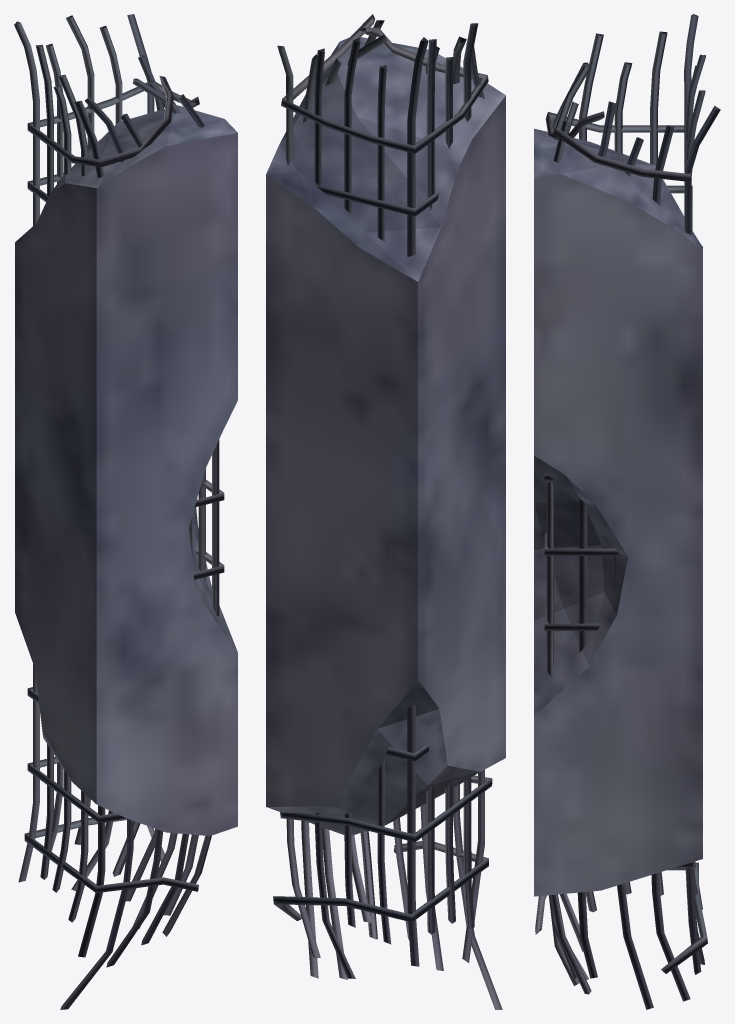
Rendered from broken-pillar.gltf.
3 views of the same model, side by side, from view 1: azimuth 30°, elevation 25°; view 2: azimuth 150°, elevation 25°; view 3: azimuth 270°, elevation 25° (orthographic). The views are drawn at different scales.
Visible parts, largest first — view 1: broken_concrete_pillar_003.001; view 2: broken_concrete_pillar_003.001; view 3: broken_concrete_pillar_003.001.
Part boxes in pixels (x1=…): broken_concrete_pillar_003.001: x1=14, y1=14, x2=237, y2=1009; broken_concrete_pillar_003.001: x1=266, y1=14, x2=505, y2=1009; broken_concrete_pillar_003.001: x1=534, y1=14, x2=720, y2=1009.
Size of the model in its own units: 0.3019 by 1.72 by 0.2984.
Materials: 1 (1 with a texture image).
